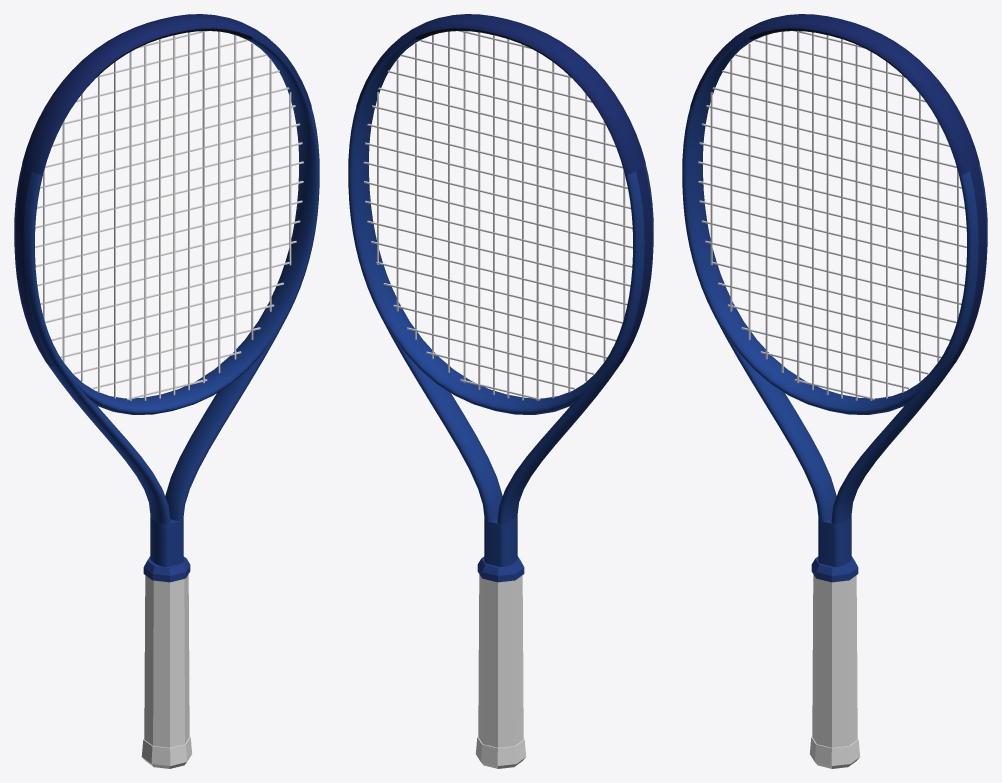
File: wilson-triad-three.glb
The picture shows the model from 3 angles, left to right: view 1: azimuth 30°, elevation 25°; view 2: azimuth 150°, elevation 25°; view 3: azimuth 330°, elevation 25°; orthographic projection.
Parts seen in each view (by area): view 1: frame, strings_mains, strings_crosses, grip, bumper, grommets, butt_cap, collar; view 2: frame, strings_mains, strings_crosses, grip, bumper, grommets, butt_cap, collar; view 3: frame, strings_mains, strings_crosses, grip, bumper, grommets, butt_cap, collar.
Boxes of the visible parts, x1,y1,x2,y2 form: frame: (14, 28, 319, 566); strings_mains: (43, 31, 291, 400); strings_crosses: (35, 31, 303, 400); grip: (144, 574, 189, 747); bumper: (22, 14, 311, 174); grommets: (15, 166, 52, 366); butt_cap: (141, 736, 192, 768); collar: (143, 556, 190, 582); frame: (348, 28, 653, 566); strings_mains: (377, 31, 625, 400); strings_crosses: (363, 31, 632, 400); grip: (478, 574, 523, 747); bumper: (356, 14, 645, 174); grommets: (615, 166, 652, 366); butt_cap: (475, 736, 526, 768); collar: (477, 556, 524, 582); frame: (682, 28, 987, 566); strings_mains: (710, 31, 958, 400); strings_crosses: (698, 31, 966, 400); grip: (812, 574, 857, 747); bumper: (690, 14, 979, 174); grommets: (949, 166, 986, 366); butt_cap: (809, 736, 860, 768); collar: (811, 556, 858, 582).
Size of the model in its own units: 0.2883 by 0.6861 by 0.0396.
